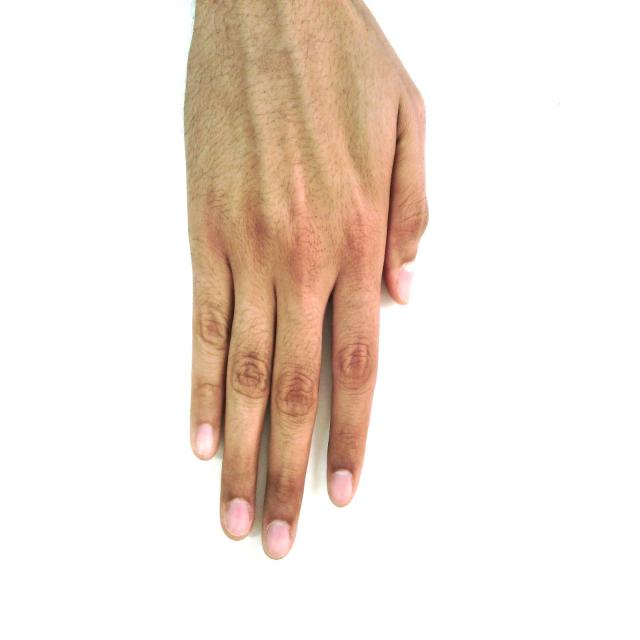Nail: (264, 521, 292, 560), (225, 499, 252, 538), (328, 470, 353, 507), (396, 260, 415, 304), (194, 423, 217, 459)
